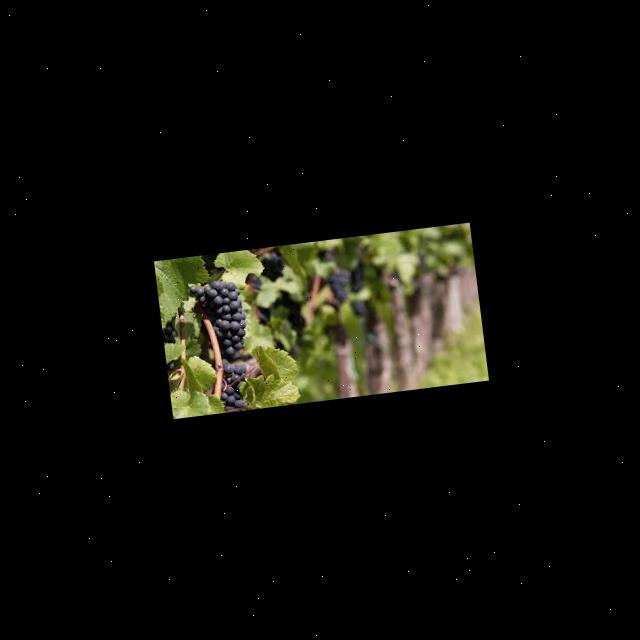grape: (187, 276, 250, 365)
